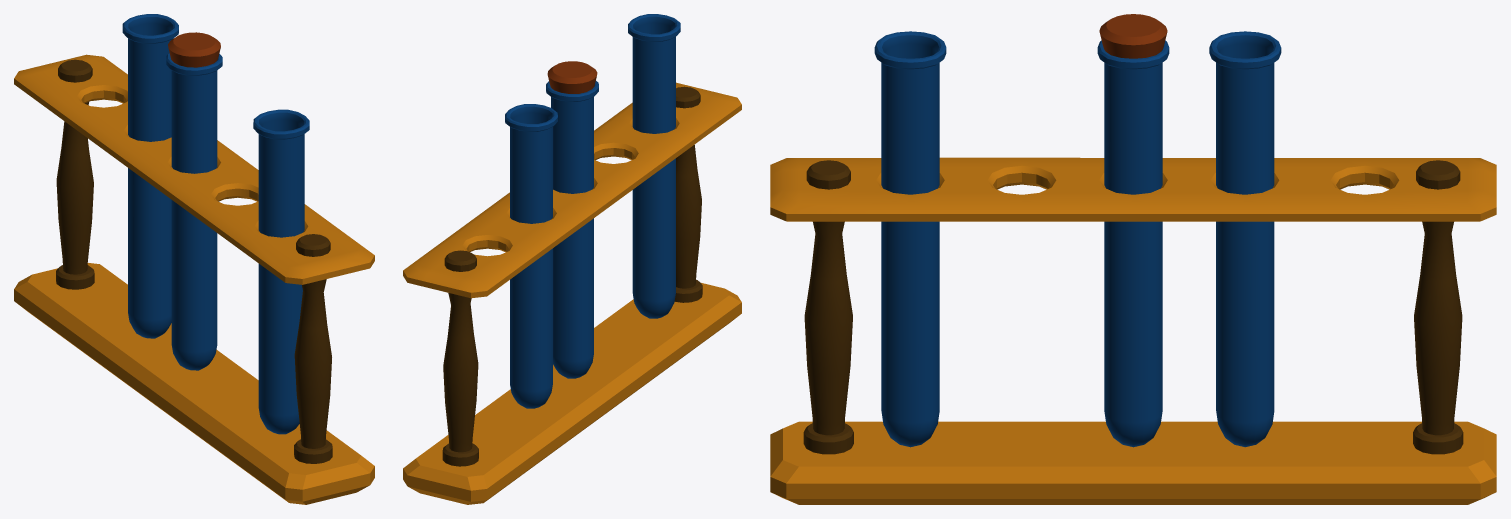
The model's file is MESH_PotionStand.fbx.
The picture shows the model from 3 angles, left to right: view 1: azimuth 30°, elevation 25°; view 2: azimuth 150°, elevation 25°; view 3: azimuth 270°, elevation 25°; orthographic projection. The views are drawn at different scales.
Visible parts, largest first — view 1: MESH_PotionStand; view 2: MESH_PotionStand; view 3: MESH_PotionStand.
Part boxes in pixels (x1,y1,x2,y2): MESH_PotionStand: (14,14,374,504); MESH_PotionStand: (403,14,741,504); MESH_PotionStand: (770,14,1496,504).
Bounding box in the file's own units: 0.0861 × 0.3287 × 0.4737.
